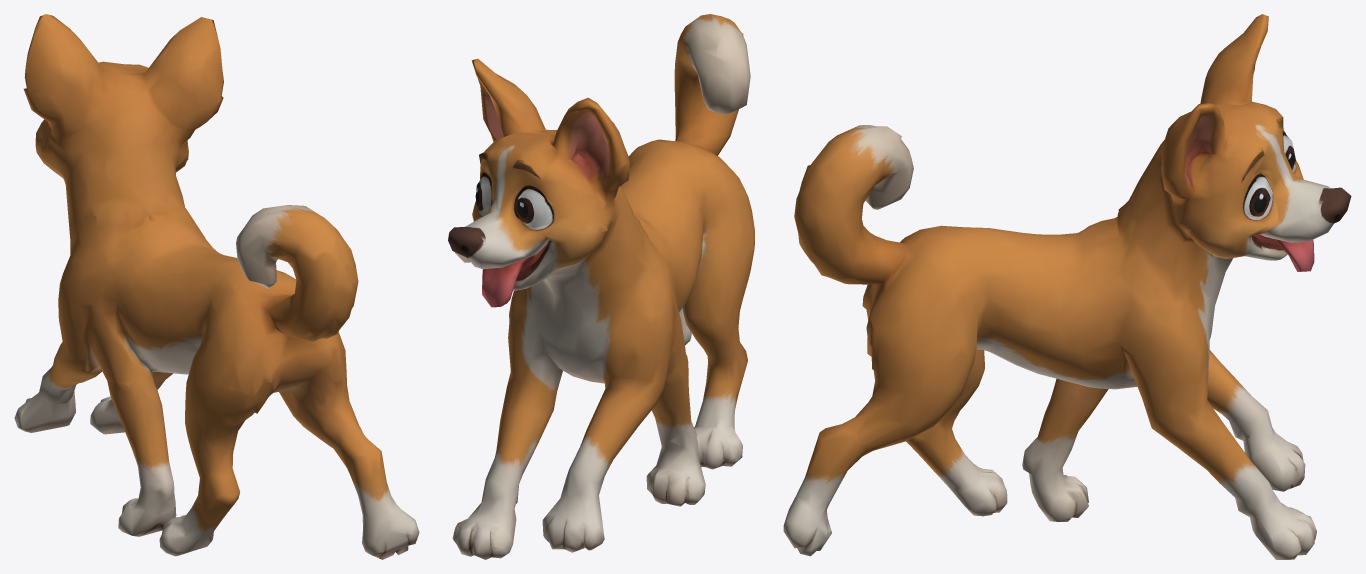
The model's file is street-dog.glb.
3 renders of one model, left to right at view 1: azimuth 30°, elevation 25°; view 2: azimuth 150°, elevation 25°; view 3: azimuth 270°, elevation 25°, orthographic. The views are drawn at different scales.
Visible parts, largest first — view 1: tripo_node_a4aea3ea-9d56-47f3-8213-1e8ef82323d7; view 2: tripo_node_a4aea3ea-9d56-47f3-8213-1e8ef82323d7; view 3: tripo_node_a4aea3ea-9d56-47f3-8213-1e8ef82323d7.
Part boxes in pixels (box(x1,y1,x2,y2)): tripo_node_a4aea3ea-9d56-47f3-8213-1e8ef82323d7: box(14, 14, 419, 559); tripo_node_a4aea3ea-9d56-47f3-8213-1e8ef82323d7: box(448, 14, 754, 559); tripo_node_a4aea3ea-9d56-47f3-8213-1e8ef82323d7: box(783, 14, 1351, 559).
Bounding box in the file's own units: 0.4197 × 0.9611 × 1.
Materials: 1 (1 with a texture image).
